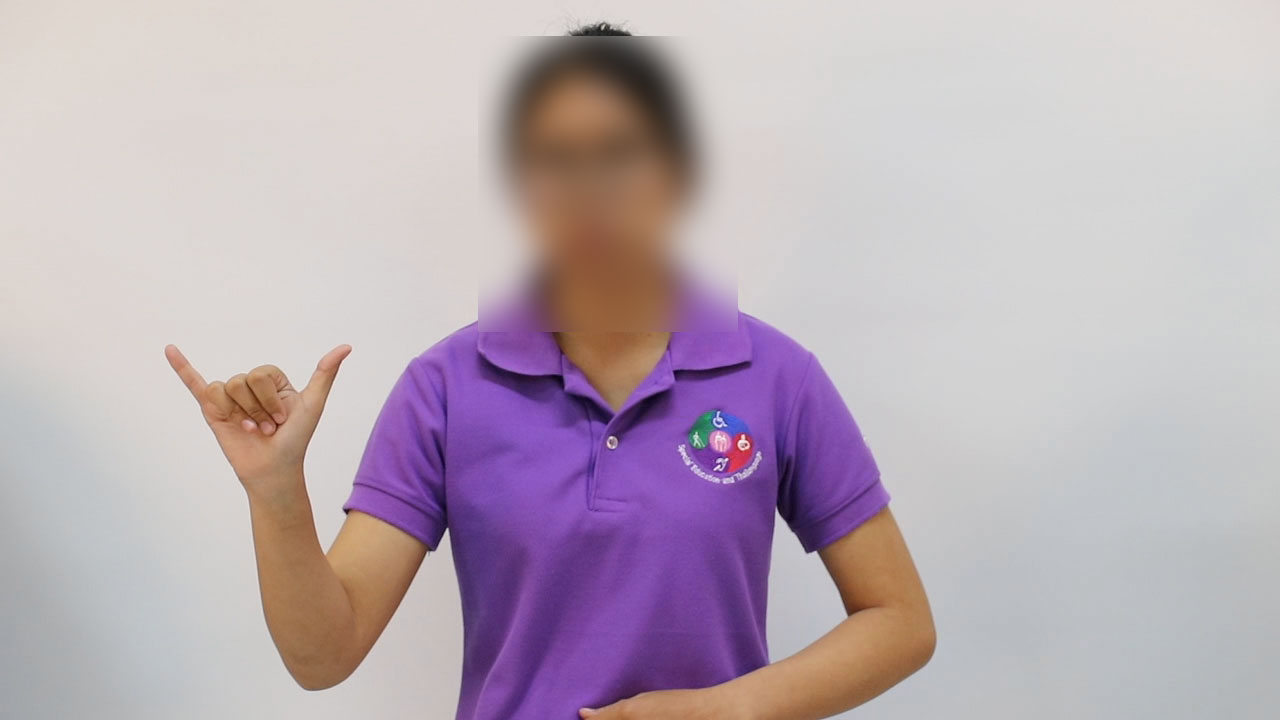yor: (156, 334, 364, 491)
